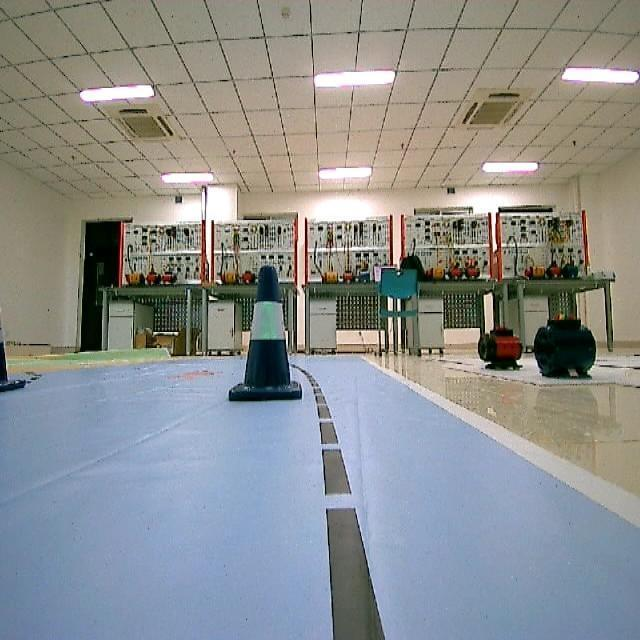obstacle: (215, 262, 302, 402)
